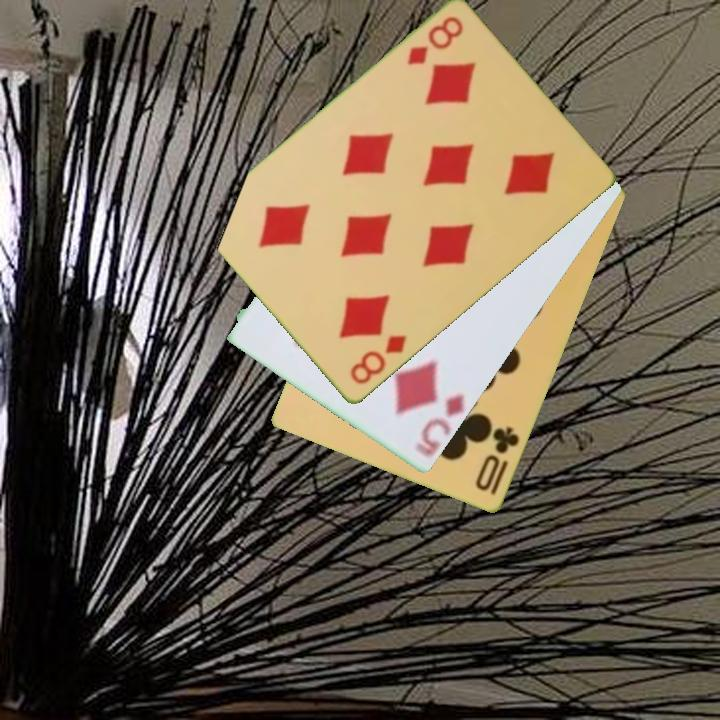10c: (472, 423, 523, 499)
5d: (412, 391, 468, 461)
8d: (346, 332, 410, 388), (403, 13, 466, 69)
